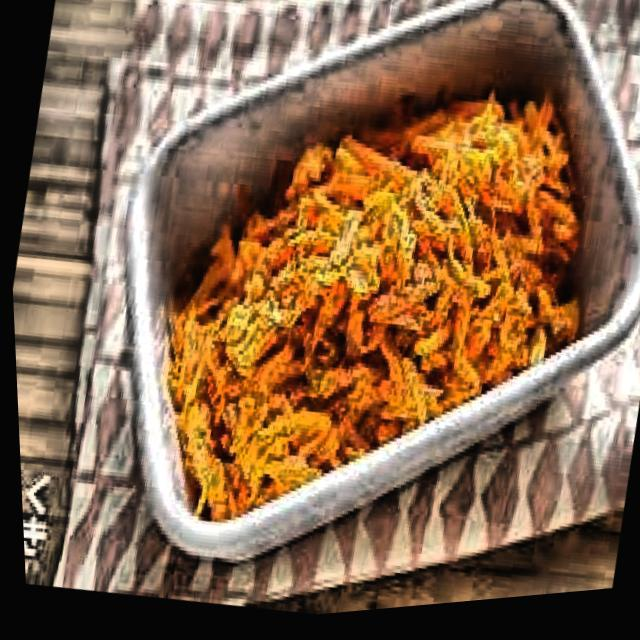Food: (118, 33, 609, 578)
